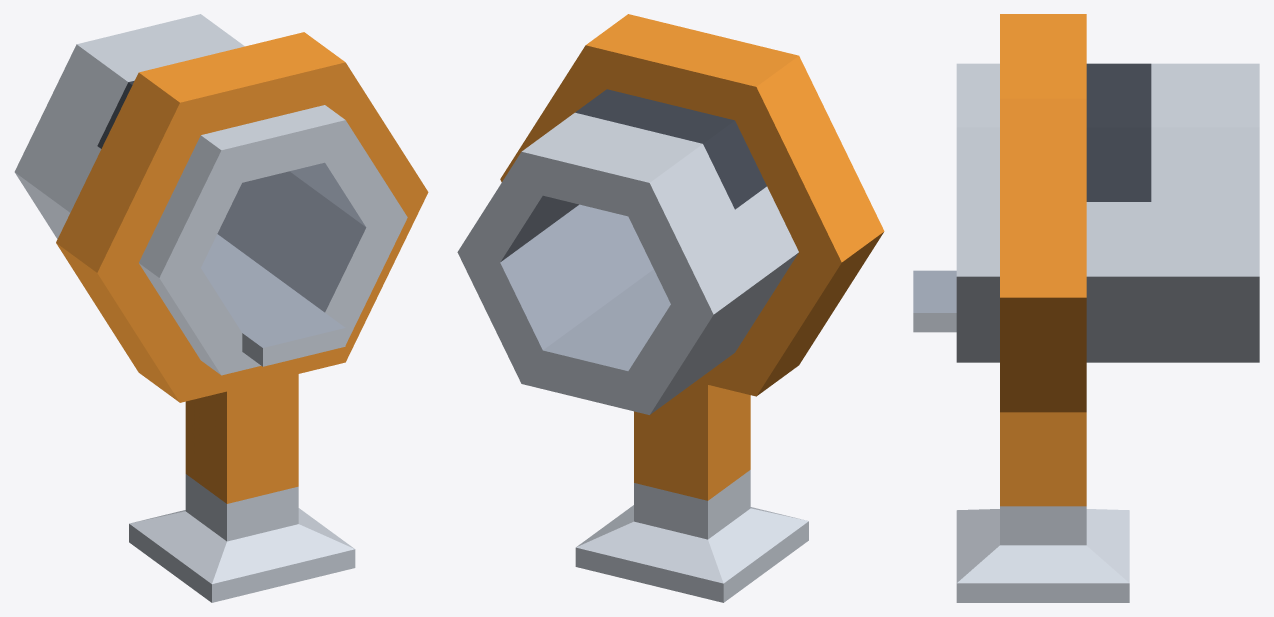
Rendered from pipe_ringHighEnd.dae.
The picture shows the model from 3 angles, left to right: view 1: azimuth 30°, elevation 25°; view 2: azimuth 150°, elevation 25°; view 3: azimuth 270°, elevation 25°; orthographic projection. The views are drawn at different scales.
Visible parts, largest first — view 1: pipe_ringHighEnd; view 2: pipe_ringHighEnd; view 3: pipe_ringHighEnd.
Boxes of the visible parts, bbox=[...] form: pipe_ringHighEnd: bbox=[14, 14, 428, 602]; pipe_ringHighEnd: bbox=[457, 14, 884, 602]; pipe_ringHighEnd: bbox=[913, 14, 1259, 602].
Bounding box in the file's own units: 0.9238 × 1.3 × 0.8.
